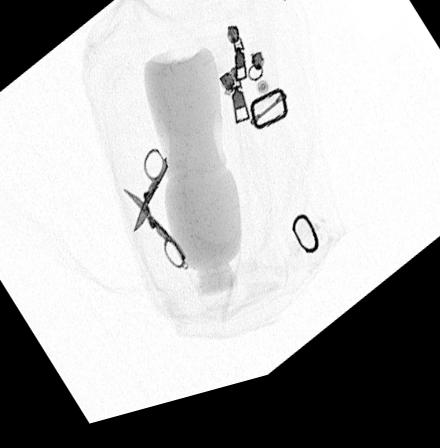Scissors: (122, 157, 190, 282)
